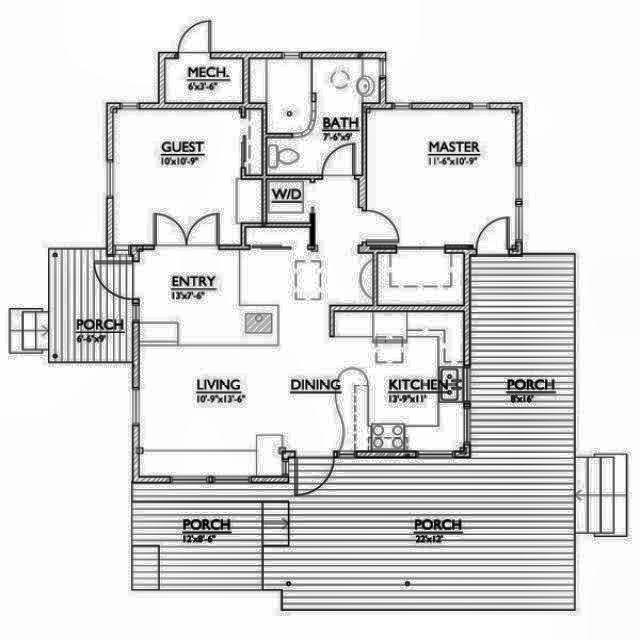room: (131, 254, 576, 610), (138, 178, 464, 476), (367, 109, 515, 248), (114, 110, 261, 245), (249, 59, 379, 175), (49, 249, 133, 361), (378, 254, 464, 304), (165, 59, 242, 102)
